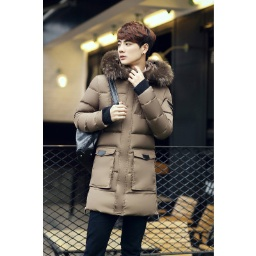face: (117, 22, 155, 65)
